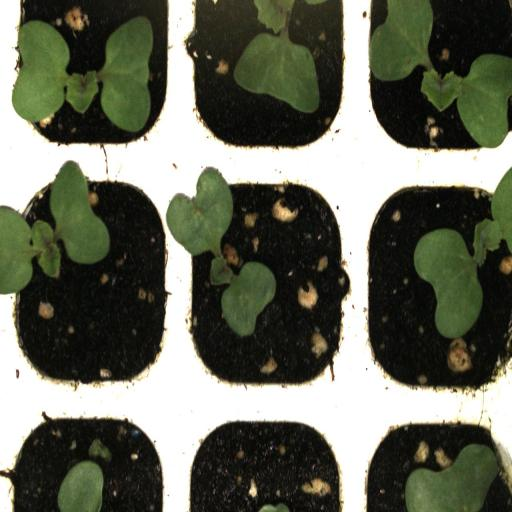Folha: (199, 0, 328, 113), (405, 443, 500, 512)
Germinacao: (178, 160, 356, 399), (5, 162, 176, 394), (359, 152, 512, 406), (0, 0, 175, 163), (355, 0, 512, 158)
